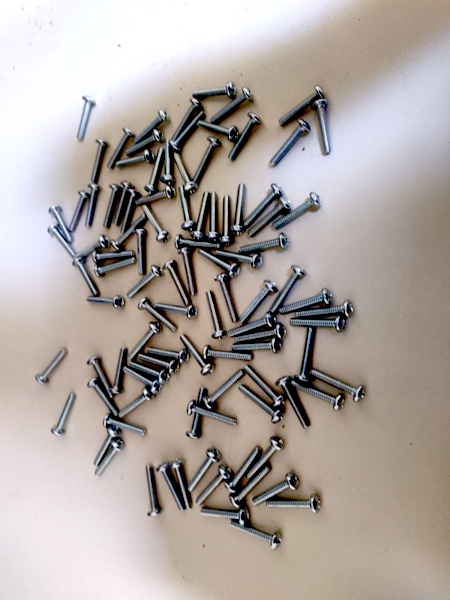longscrew: (262, 121, 310, 169), (234, 385, 286, 426), (232, 464, 273, 513), (247, 435, 288, 484), (274, 377, 311, 431), (239, 363, 286, 405), (186, 136, 223, 187), (286, 381, 348, 411), (273, 195, 323, 232), (237, 282, 277, 328), (205, 367, 244, 414), (308, 370, 367, 401), (230, 522, 284, 555), (280, 87, 324, 126), (209, 89, 254, 127), (273, 264, 307, 314), (226, 114, 261, 162), (245, 185, 280, 231), (256, 472, 297, 511), (249, 199, 288, 240), (228, 445, 259, 496), (291, 326, 318, 384), (282, 288, 333, 318), (166, 100, 202, 141), (181, 384, 208, 438), (179, 334, 214, 375), (66, 94, 96, 141), (198, 466, 229, 511), (188, 447, 219, 492), (170, 110, 204, 149), (137, 205, 169, 246), (170, 461, 196, 511), (198, 248, 241, 278), (266, 495, 322, 518), (132, 110, 171, 143), (131, 321, 163, 361), (227, 310, 276, 336), (118, 385, 155, 419), (85, 379, 118, 417), (139, 299, 177, 332), (126, 265, 159, 303), (156, 465, 183, 511), (100, 131, 131, 171), (185, 403, 241, 425), (139, 146, 164, 194), (111, 216, 146, 250), (86, 357, 114, 399), (100, 414, 151, 437), (288, 316, 349, 335), (294, 302, 355, 321), (312, 97, 331, 158), (214, 273, 237, 323), (96, 438, 125, 477), (93, 427, 122, 466), (105, 345, 127, 396), (239, 236, 291, 257), (35, 348, 69, 380), (84, 140, 108, 184), (164, 263, 189, 305), (228, 182, 248, 234), (62, 191, 88, 231), (108, 181, 131, 226), (146, 343, 189, 367), (84, 292, 127, 316), (74, 253, 98, 296), (188, 189, 209, 238), (125, 131, 163, 158), (43, 205, 73, 239), (193, 120, 239, 142), (173, 151, 197, 193), (205, 289, 225, 339), (131, 361, 168, 388), (45, 224, 75, 257), (98, 186, 121, 229), (124, 365, 160, 392), (142, 352, 178, 379), (130, 224, 149, 275), (51, 395, 75, 435), (80, 182, 100, 230), (212, 251, 265, 269), (202, 506, 252, 525), (117, 188, 137, 235), (229, 326, 284, 343), (131, 187, 176, 207), (75, 235, 107, 263), (181, 242, 196, 300), (153, 303, 200, 321), (145, 463, 160, 516), (192, 82, 236, 100), (95, 259, 134, 279), (174, 236, 221, 252), (117, 149, 154, 169), (218, 191, 231, 244), (158, 136, 172, 183), (232, 341, 283, 353), (206, 192, 219, 239), (94, 249, 134, 264), (203, 349, 254, 360), (179, 186, 190, 231)
